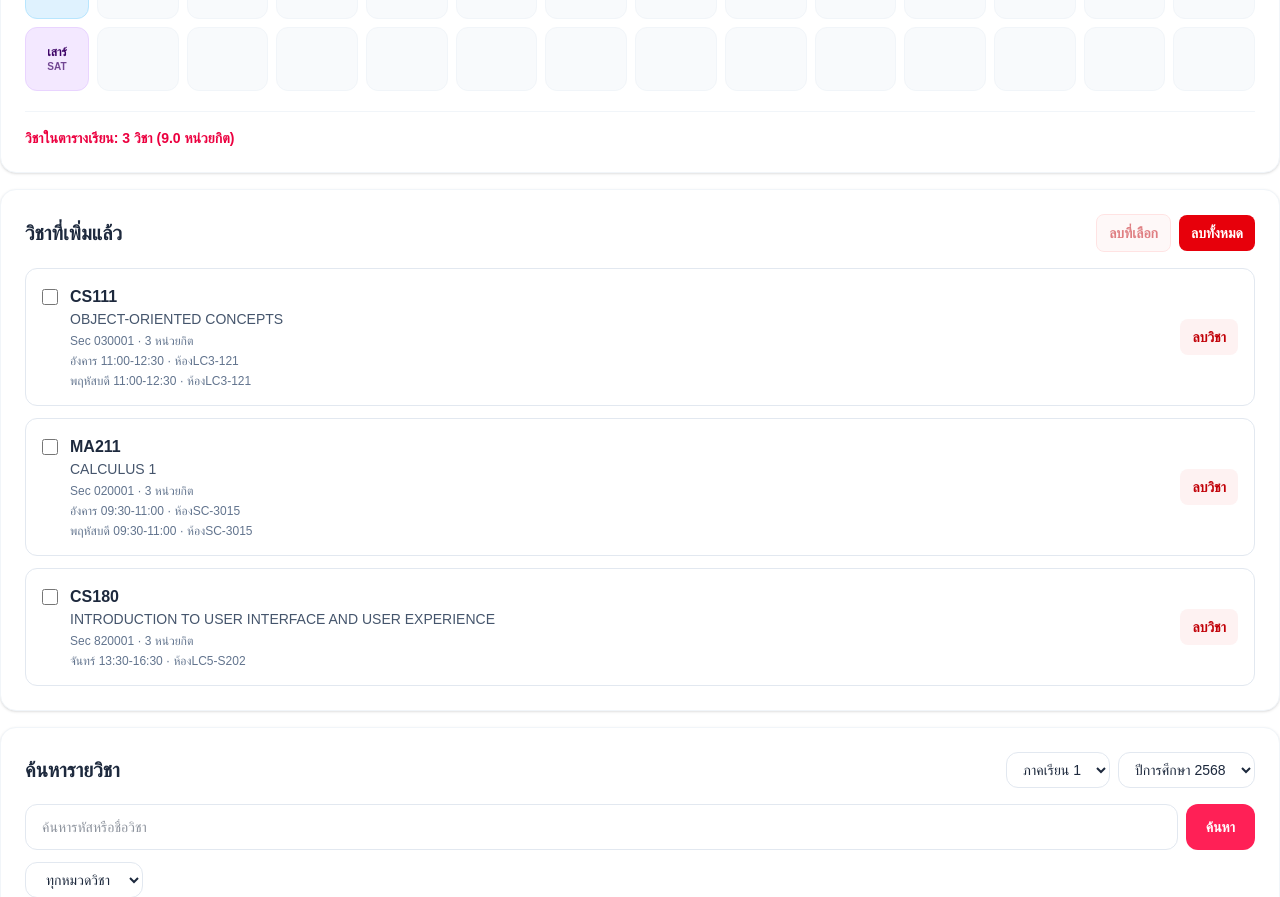
US2-T10 ต่อปุ่มลบ ↔ API ↔ DB ตาม Sequence Diagram ของ US2-T06 › ได้ 404 แจ้งว่าตารางเปลี่ยน โหลดตารางล่าสุด และล้าง checkbox ให้เลือกใหม่
(page scrolled)
Click the checkbox named "เลือกวิชา MA211". click: (50, 447)
box: [42,439,58,455]
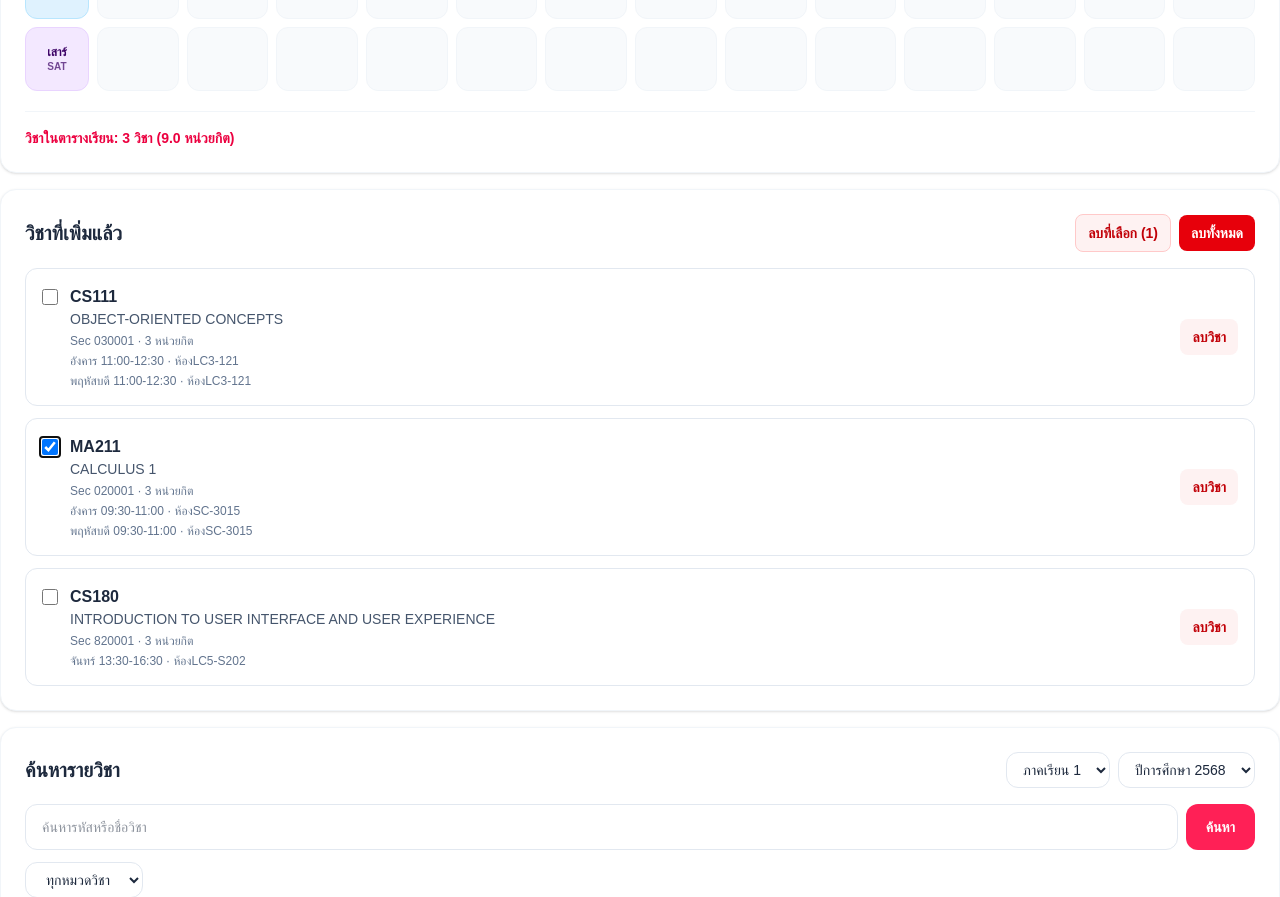
Click the checkbox named "เลือกวิชา CS180". click: (50, 597)
box: [42,589,58,605]
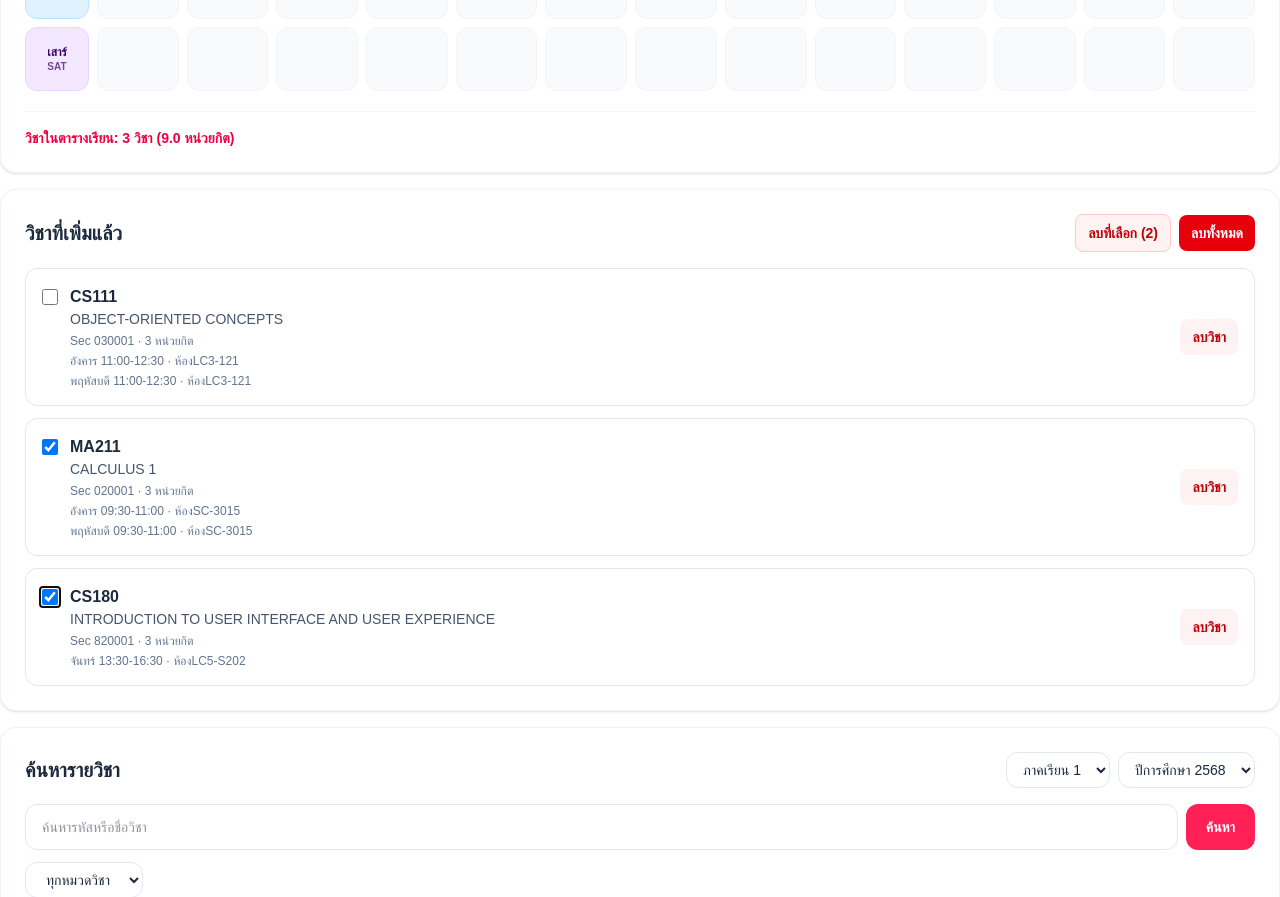
Click the button "ลบที่เลือก (2)". click: (1123, 233)
box: [1075,214,1171,252]
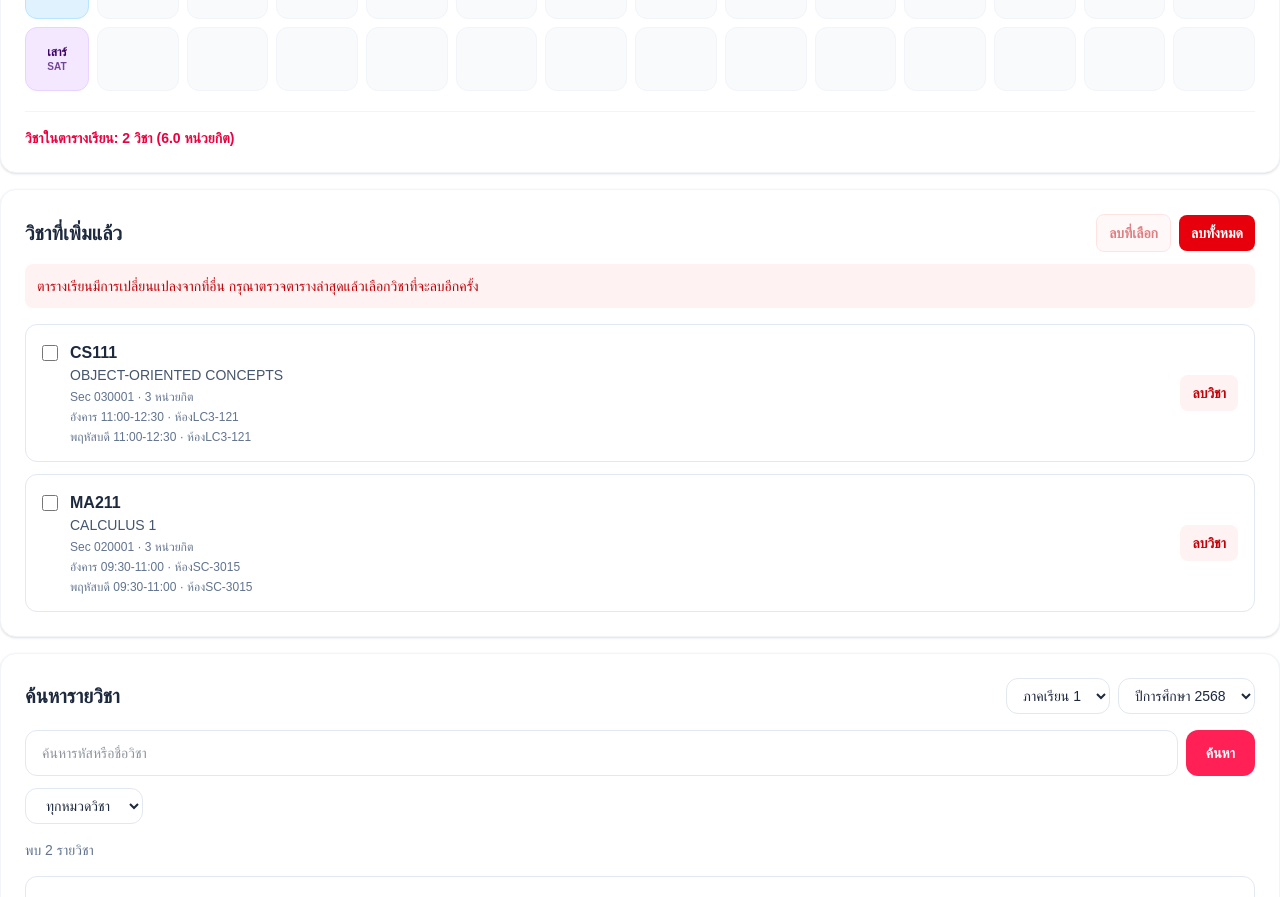
Expected: the text "ตารางเรียนมีการเปลี่ยนแปลงจากที่อื่น กรุณาตรวจตารางล่าสุดแล้วเลือกวิชาที่จะลบอีกครั้ง" is shown, [37,278,479,294]
Expected: the button "ลบที่เลือก" is disabled, [1096,214,1171,252]
